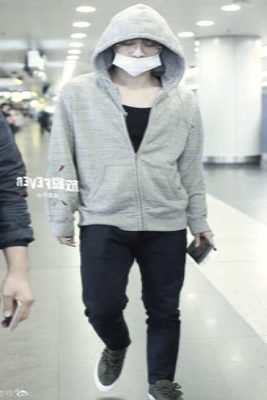mask_weared_incorrect: (110, 40, 163, 77)
